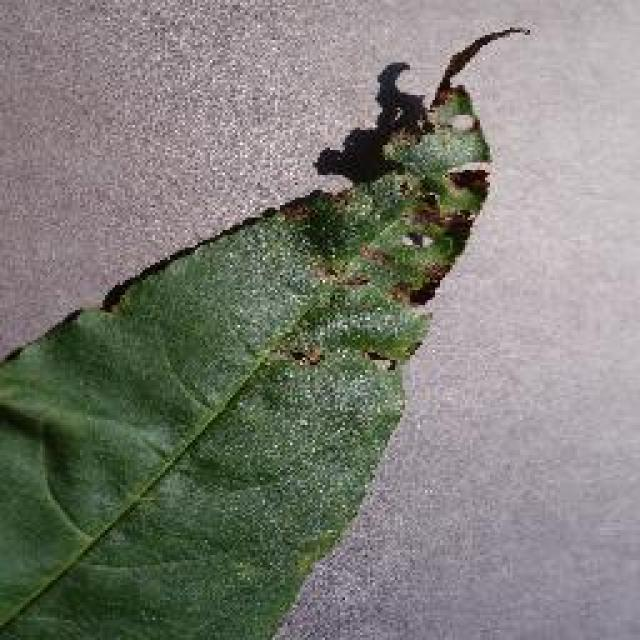Peach_Bacterial_Spot: (252, 87, 482, 523)
